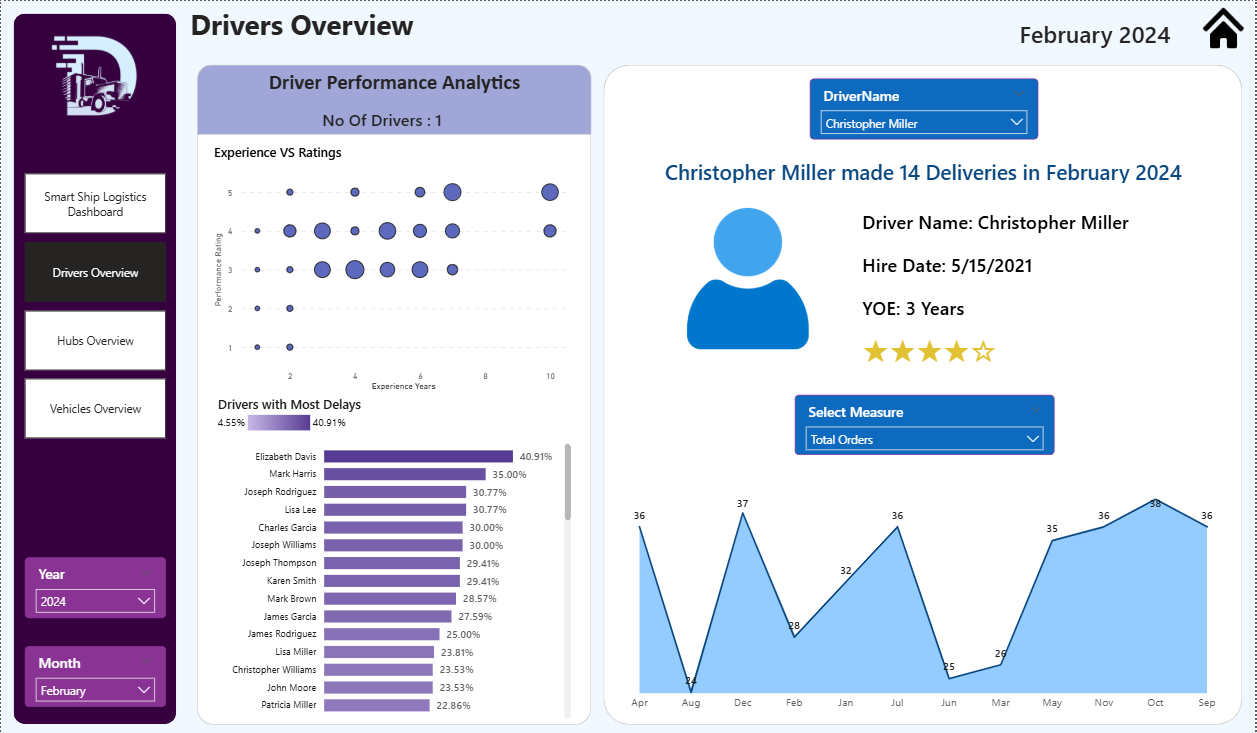

Layout of this report page (visuals, bound fields, positions):
{"tool":"powerbi","page":{"name":"Drivers Overview","canvas":[1450,850],"ordinal":1},"visuals":[{"type":"shape","box":[14,14,188,820.8],"z":0},{"type":"textbox","box":[214.3,0,510,60],"z":1000},{"type":"slicer","fields":{"Values":["Date Table.Year"]},"box":[27.1,642.9,162.9,70],"z":2000},{"type":"slicer","fields":{"Values":["Date Table.Month"]},"box":[27.1,744.3,162.9,70],"z":3000},{"type":"shape","box":[226.6,73.6,454.7,762.2],"z":4000},{"type":"shape","box":[227,73.1,455.5,80.8],"z":5000},{"type":"cardVisual","fields":{"Data":["Drivers.No of Drivers"]},"box":[318.7,116.6,242.5,38.9],"z":6000},{"type":"textbox","box":[227,73.1,455.5,43.5],"z":7000},{"type":"scatterChart","title":"Experience VS Ratings","fields":{"X":["Drivers.Experience Years"],"Y":["Drivers.Performance Rating"],"Size":["Sum(Drivers.Experience Years)1"]},"box":[241.1,164.6,423,290.2],"z":8000},{"type":"barChart","title":"Drivers with Most Delays","fields":{"Category":["Drivers.DriverName"],"Y":["Orders.Delayed Delivery Rate"]},"box":[245.6,455.5,418.2,379.3],"z":9000},{"type":"image","box":[44.3,30,128.6,120],"z":10000},{"type":"cardVisual","fields":{"Data":["Orders.Year Month Title"]},"box":[1152,0,223.8,73.6],"z":11000},{"type":"shape","box":[695.8,73.6,737.7,762.2],"z":12000},{"type":"slicer","fields":{"Values":["Drivers.DriverName"]},"box":[934,89.5,264.2,70.7],"z":13000},{"type":"cardVisual","fields":{"Data":["Drivers.Drivers Title"]},"box":[734.8,177.6,661.2,39],"z":14000},{"type":"cardVisual","fields":{"Data":["Drivers.Driver Name Title","Drivers.Hire Date Title","Drivers.YOE","Drivers.Star Rating","Drivers.Star Rating"]},"box":[965.8,216.5,446.1,225.2],"z":15000},{"type":"image","box":[781,238.2,163.1,164.6],"z":16000},{"type":"areaChart","fields":{"Y":["Orders.Total Orders"],"Category":["Date Table.Month Abr"]},"box":[708.8,561.6,713.1,267.1],"z":17000},{"type":"slicer","fields":{"Values":["Select Measure.Select Measure"]},"box":[916.7,454.7,300.3,69.3],"z":18000},{"type":"image","box":[1375.8,0,72.2,62.1],"z":19000},{"type":"pageNavigator","box":[27.4,199.2,163.1,307.5],"z":19001}]}

Visuals, with their boxes in screenshot pixels (x1, y1, x2, y2), scaled from the page's 1450x850 canvas onto the 1257x733 screenshot:
shape: BBox(12, 12, 175, 720)
textbox: BBox(186, 0, 628, 52)
slicer - Date Table.Year: BBox(23, 554, 165, 615)
slicer - Date Table.Month: BBox(23, 642, 165, 702)
shape: BBox(196, 63, 591, 721)
shape: BBox(197, 63, 592, 133)
cardVisual - Drivers.No of Drivers: BBox(276, 101, 487, 134)
textbox: BBox(197, 63, 592, 101)
"Experience VS Ratings" scatterChart: BBox(209, 142, 576, 392)
"Drivers with Most Delays" barChart: BBox(213, 393, 575, 720)
image: BBox(38, 26, 150, 129)
cardVisual - Orders.Year Month Title: BBox(999, 0, 1193, 63)
shape: BBox(603, 63, 1243, 721)
slicer - Drivers.DriverName: BBox(810, 77, 1039, 138)
cardVisual - Drivers.Drivers Title: BBox(637, 153, 1210, 187)
cardVisual - Drivers.Driver Name Title x Drivers.Hire Date Title: BBox(837, 187, 1224, 381)
image: BBox(677, 205, 818, 347)
areaChart - Orders.Total Orders x Date Table.Month Abr: BBox(614, 484, 1233, 715)
slicer - Select Measure.Select Measure: BBox(795, 392, 1055, 452)
image: BBox(1193, 0, 1255, 54)
pageNavigator: BBox(24, 172, 165, 437)
